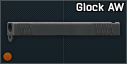Glock Alpha Wolf pistol slide: (0, 0, 127, 64)
